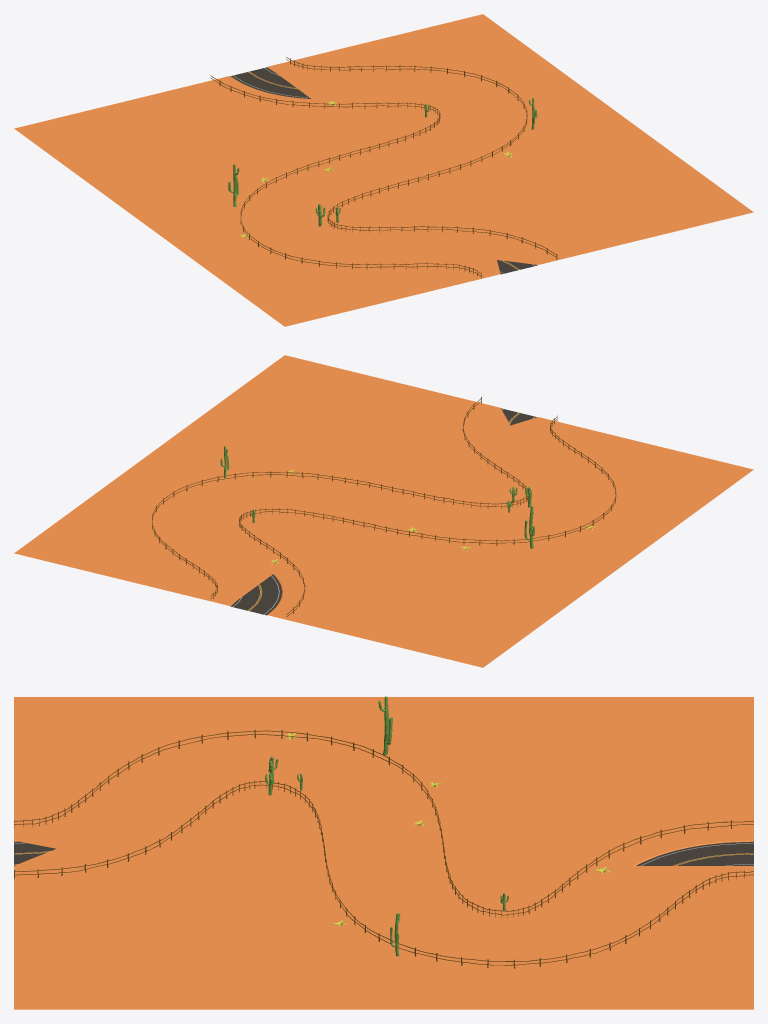
Rendered from DesertRoadStraight3.fbx.
3 views of the same model, one above another, from view 1: azimuth 30°, elevation 25°; view 2: azimuth 150°, elevation 25°; view 3: azimuth 270°, elevation 25° (orthographic). The views are drawn at different scales.
Parts seen in each view (by area): view 1: DRS3Road, DRS3WoodFenceRight, DRS3WoodFenceLeft; view 2: DRS3Road, DRS3WoodFenceRight, DRS3WoodFenceLeft; view 3: DRS3Road, DRS3WoodFenceLeft, DRS3WoodFenceRight.
Boxes of the visible parts, x1,y1,x2,y2 form: DRS3Road: (14, 14, 753, 326); DRS3WoodFenceRight: (286, 57, 557, 259); DRS3WoodFenceLeft: (210, 75, 481, 278); DRS3Road: (14, 355, 753, 667); DRS3WoodFenceRight: (152, 397, 528, 598); DRS3WoodFenceLeft: (239, 415, 616, 616); DRS3Road: (14, 697, 753, 1009); DRS3WoodFenceLeft: (14, 729, 753, 917); DRS3WoodFenceRight: (14, 780, 753, 968).
Size of what is drawn, in the model's own units: 18000 by 1581 by 18000.
